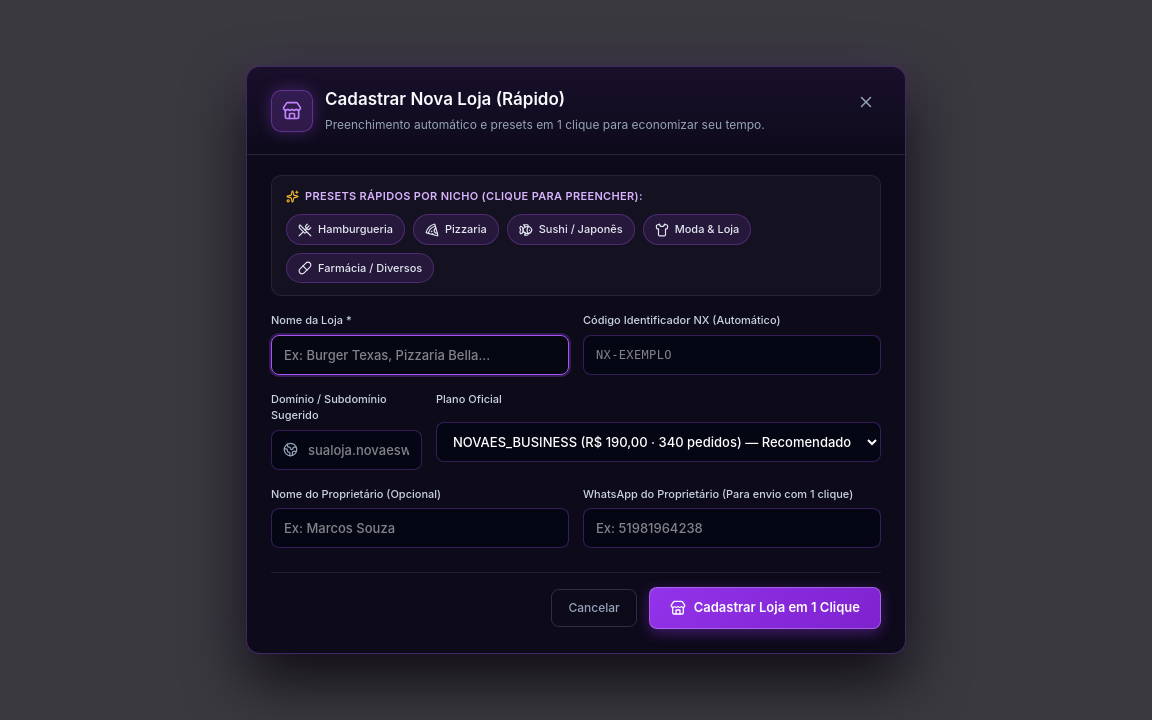
QuickStoreModal (Cadastro Rápido de Loja) › ao digitar o nome da loja, gera o subdomínio e o código NX automaticamente
The width and height of the screenshot is (1152, 720).
Type "Pizzaria Bella" into the field with placeholder "Ex: Burger Texas, Pizzaria Bella...". click: (420, 355)
box: [271,335,569,375]
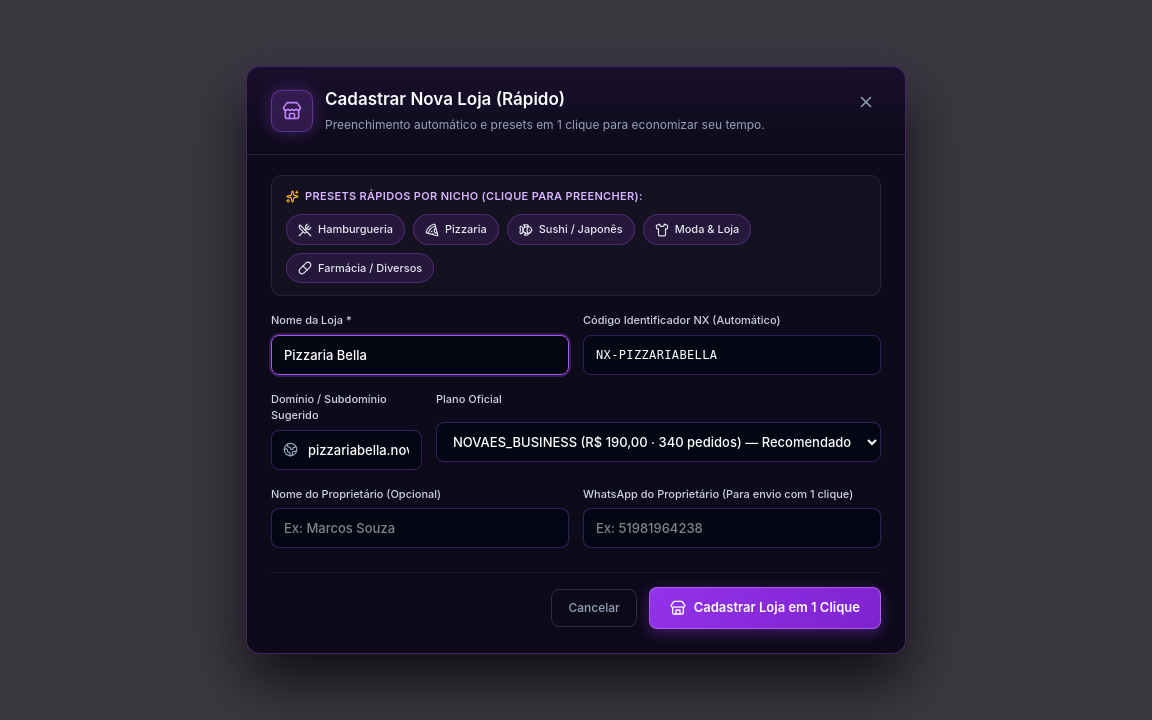
Check: the field with placeholder "sualoja.novaesweb.com.br" holds "pizzariabella.novaesweb.com.br", box [271,430,422,470]
Check: the field with placeholder "NX-EXEMPLO" holds "NX-PIZZARIABELLA", box [583,335,881,375]
